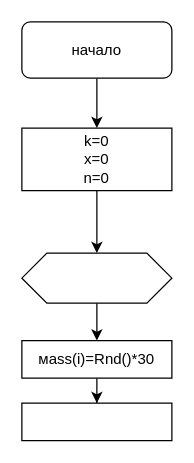
Some shapes in this 194 by 463 pixel diagram are drawn without their labels. The shapes that lost their labels are listed below. From the top down, each one's box as (x1, y1, x2, y2) in pixels, then its label:
(21, 252, 172, 303): i=1,15
(21, 402, 172, 441): k=k+mass(i)
